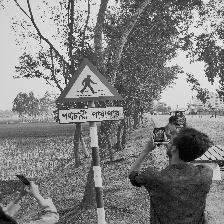Pedestrian-crossing: (56, 59, 126, 124)
